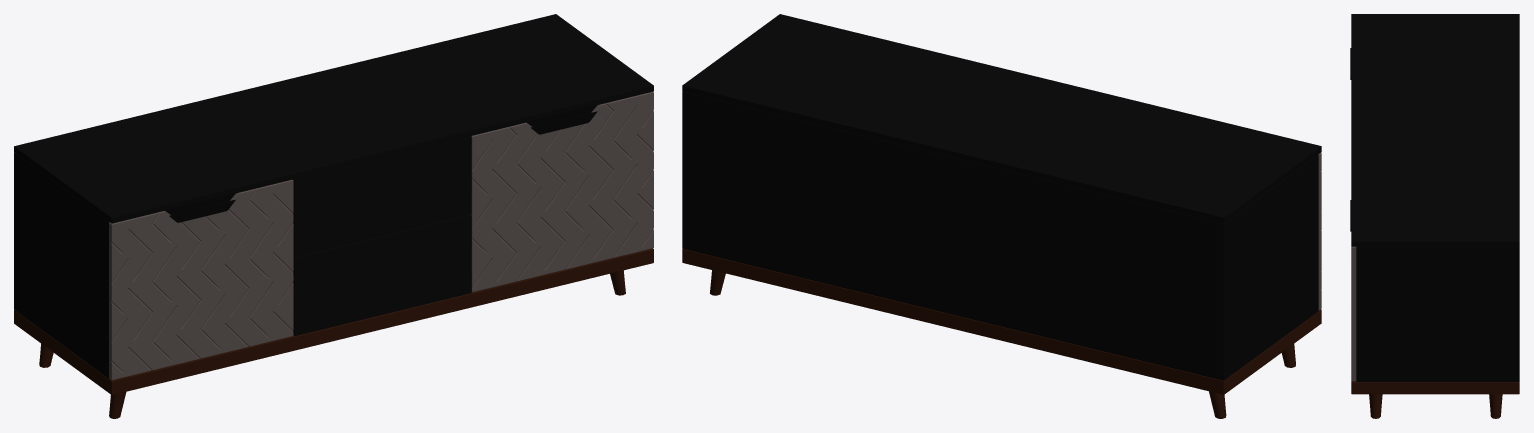
Rendered from FBX_Vray.FBX.
3 views of the same model, side by side, from view 1: azimuth 30°, elevation 25°; view 2: azimuth 150°, elevation 25°; view 3: azimuth 270°, elevation 25° (orthographic). The views are drawn at different scales.
Visible parts, largest first — view 1: Skandi; view 2: Skandi; view 3: Skandi.
Boxes of the visible parts, box(x1,y1,x2,y2) form: Skandi: box(14, 14, 653, 418); Skandi: box(682, 14, 1321, 418); Skandi: box(1350, 14, 1519, 418).
Size of the model in its own units: 1600 by 602 by 503.
